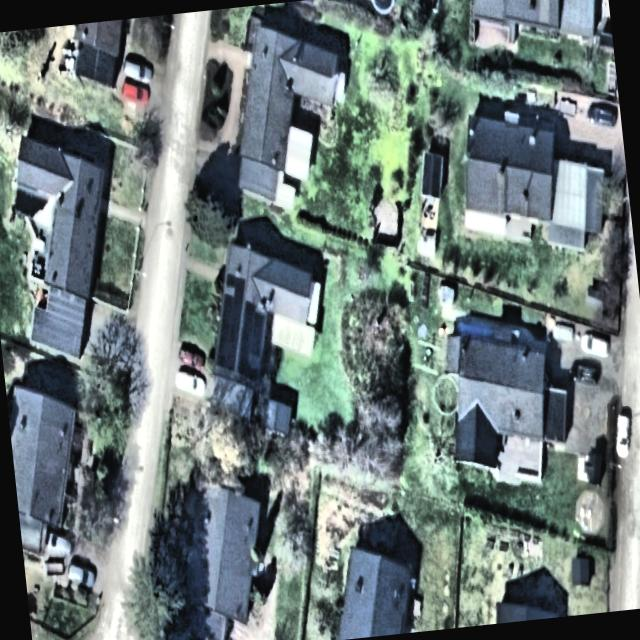roof_pv: (210, 293, 245, 368), (240, 296, 269, 360), (233, 343, 262, 386), (224, 267, 246, 300)
